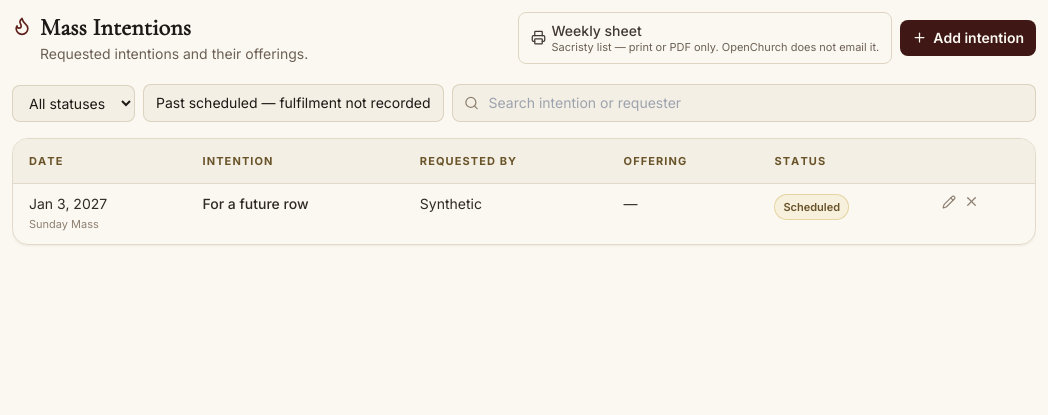
Test: SP-064 past scheduled indicator + filter › EN empty: filter on with no matches shows the dedicated neutral empty state, not "No Mass intentions yet"
The width and height of the screenshot is (1048, 415).
Expected: the text "For a future row" is shown, [186,184,404,244]
What coordinates should you click on to do the following:
click the button with test id "mi-past-filter"
I would click on:
 (293, 103)
Its box is [143,84,444,122].
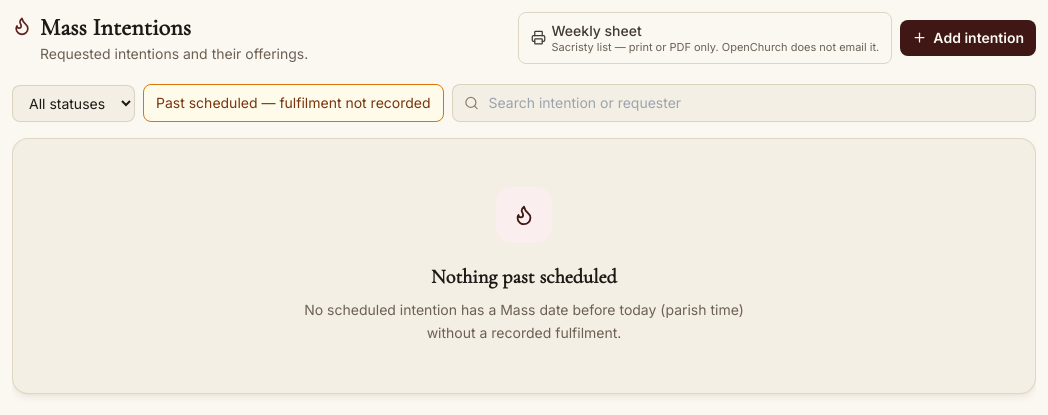
Result: the heading "Nothing past scheduled" is shown at [431,265,617,289]
Result: the text "No scheduled intention has a Mass date before today (parish time) without a recorded fulfilment." is shown at [304,301,744,341]
